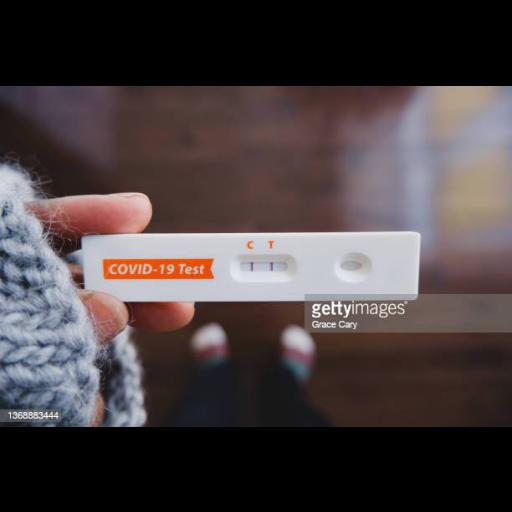Pos: (80, 234, 420, 296)
